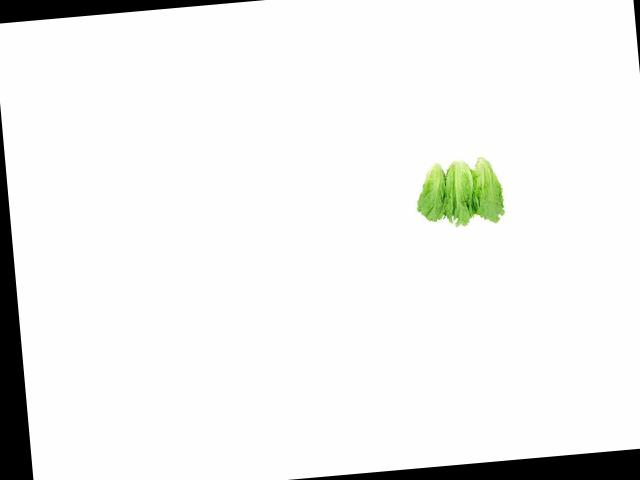lettuce: (411, 147, 453, 225)
